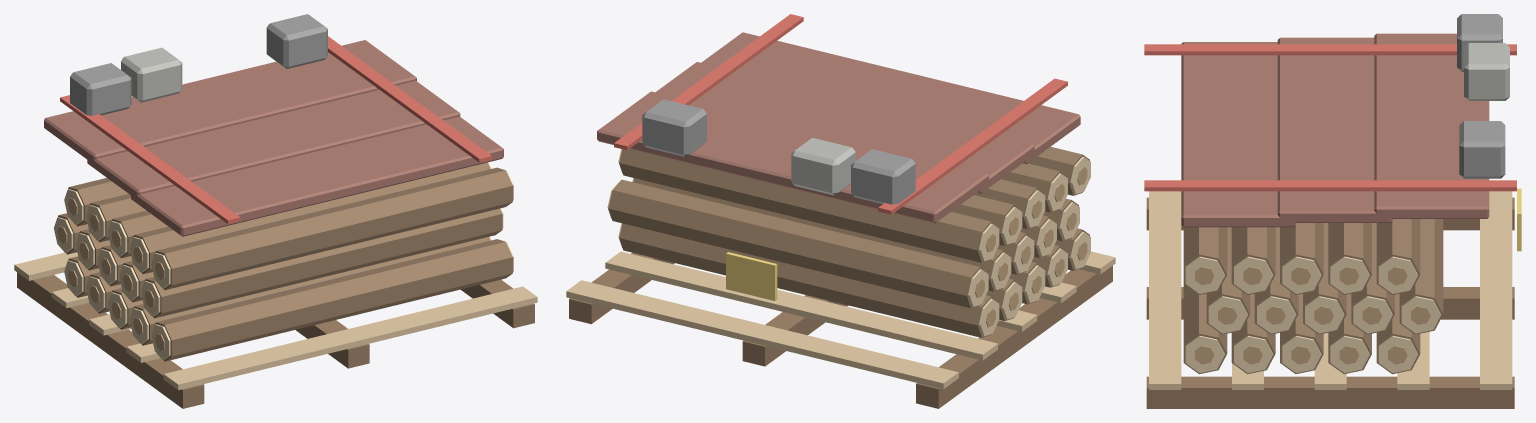
The model's file is LodgeKit.fbx.
The picture shows the model from 3 angles, left to right: view 1: azimuth 30°, elevation 25°; view 2: azimuth 150°, elevation 25°; view 3: azimuth 270°, elevation 25°; orthographic projection. The views are drawn at different scales.
Visible parts, largest first — view 1: LodgeKit_Mesh; view 2: LodgeKit_Mesh; view 3: LodgeKit_Mesh.
Part boxes in pixels (box(x1,y1,x2,y2)): LodgeKit_Mesh: box(14, 14, 537, 408); LodgeKit_Mesh: box(566, 14, 1115, 408); LodgeKit_Mesh: box(1144, 14, 1521, 408).
Size of the model in its own units: 2 by 1.11 by 1.64.
